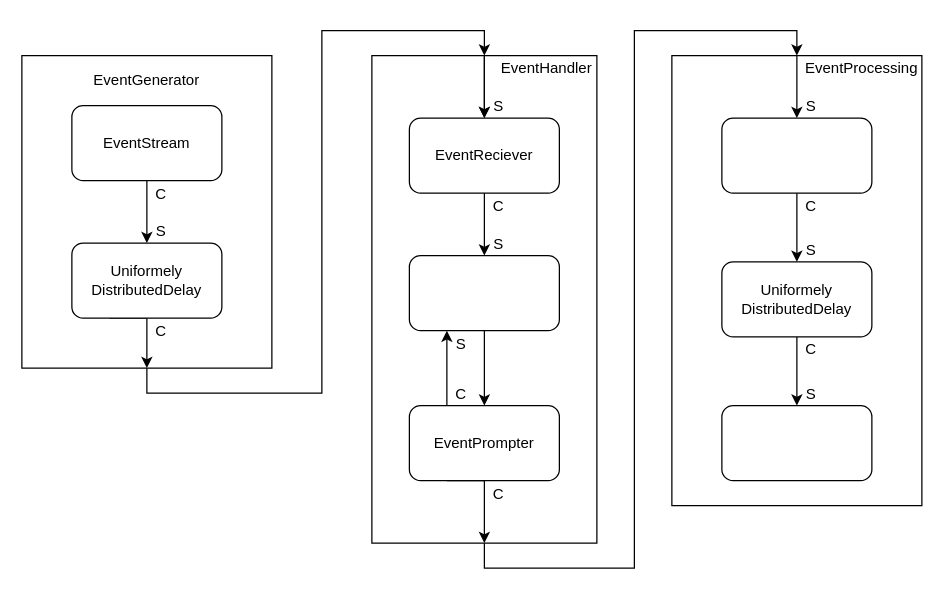
The diagram is 944 pixels wide and 600 high, and some of its shapes have lost their labels. The shapes that lost their labels are listed below. From the top down, each one's centre as x and y in pixels, then its label:
point 796,155: Multiplex
point 483,292: EventOWBuffer
point 796,442: GPrint
